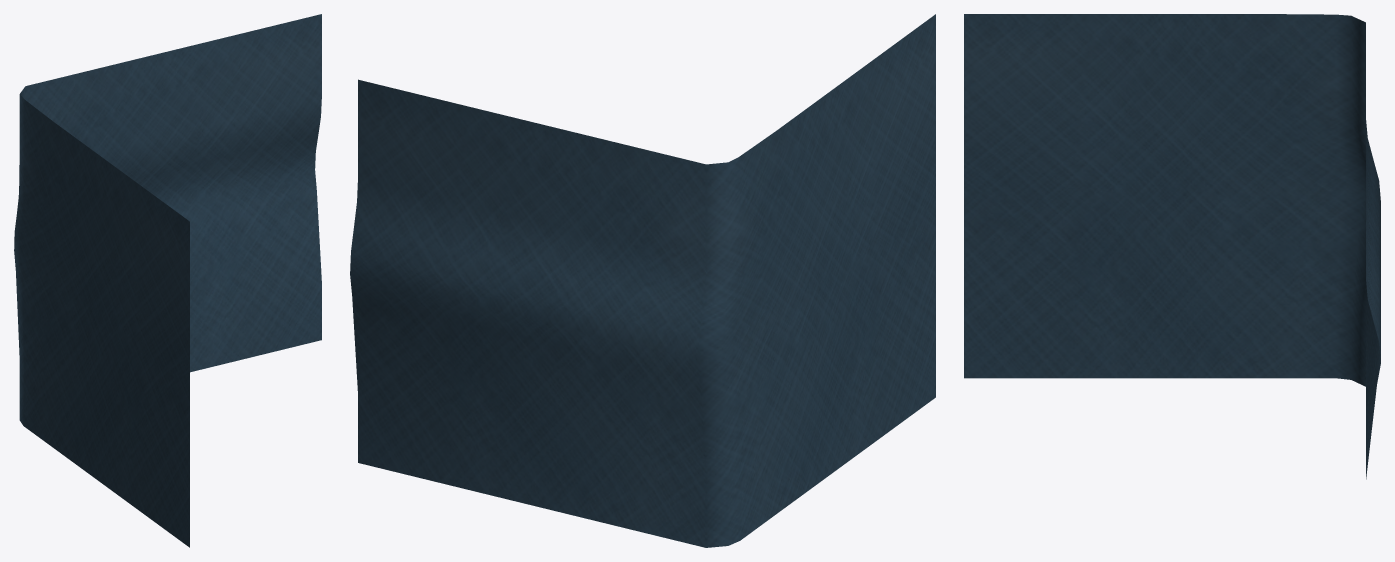
Rendered from tl_fallL.FBX.
The picture shows the model from 3 angles, left to right: view 1: azimuth 30°, elevation 25°; view 2: azimuth 150°, elevation 25°; view 3: azimuth 270°, elevation 25°; orthographic projection. The views are drawn at different scales.
Visible parts, largest first — view 1: tl_fallL_MESH; view 2: tl_fallL_MESH; view 3: tl_fallL_MESH.
Part boxes in pixels (<box>): tl_fallL_MESH: <box>14,14,321,547</box>; tl_fallL_MESH: <box>350,14,935,547</box>; tl_fallL_MESH: <box>964,14,1380,479</box>.
Size of the model in its own units: 100 by 100 by 104.
